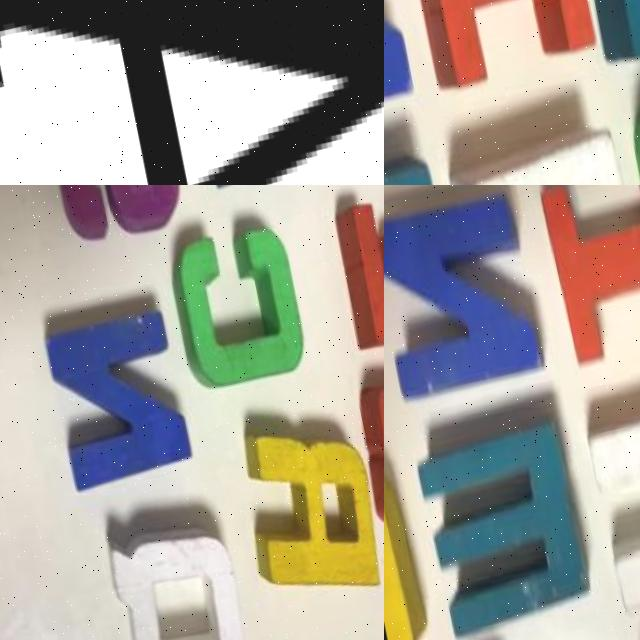A: (0, 0, 384, 185)
C: (164, 211, 312, 395)
E: (341, 187, 384, 354)
H: (576, 373, 640, 611), (446, 118, 640, 185)
I: (539, 185, 640, 361), (392, 0, 598, 82)
M: (414, 404, 596, 634)
N: (384, 185, 548, 404), (44, 291, 195, 487)
Q: (100, 510, 256, 640)
R: (239, 414, 384, 602)
S: (45, 185, 187, 249)
